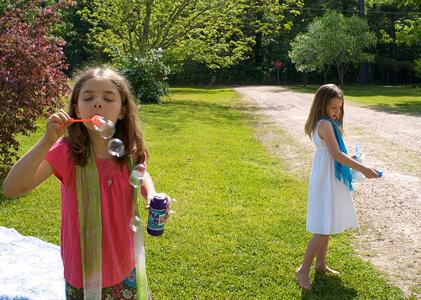person: (1, 66, 174, 300)
